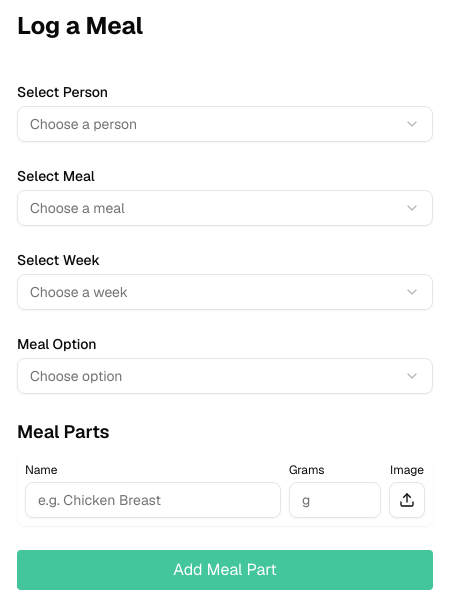
LogMealPage component › shows all meal options (1, 2, 3)
The image size is (452, 607).
What coordinates should you click on to do the following:
click the dropdown labelled "Choose option"
I would click on:
 (76, 376)
Its box is [17,358,433,394].
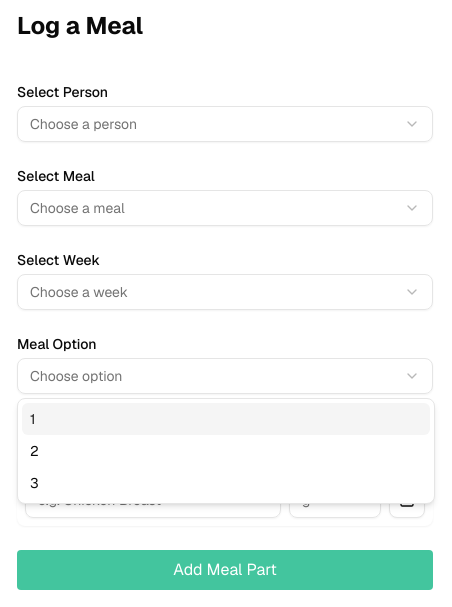
Check: the text "1" is shown, box [30,409,35,429]
Check: the text "2" is shown, box [30,441,39,461]
Check: the text "3" is shown, box [30,473,39,493]
